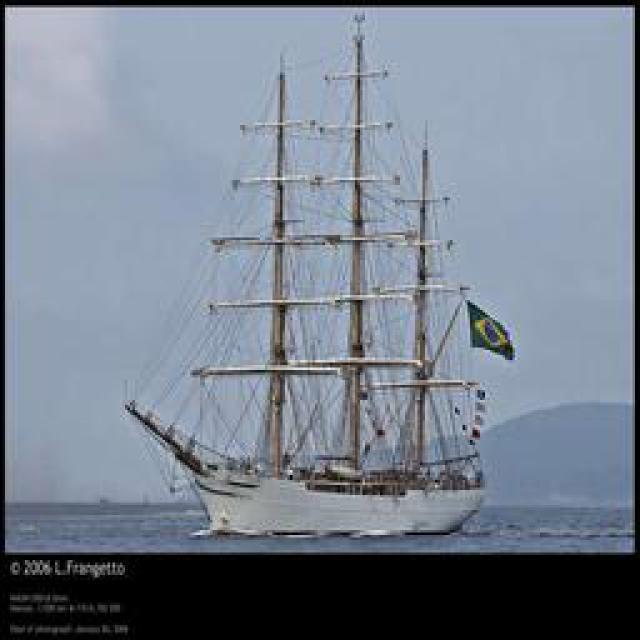Ship: (126, 30, 514, 543)
